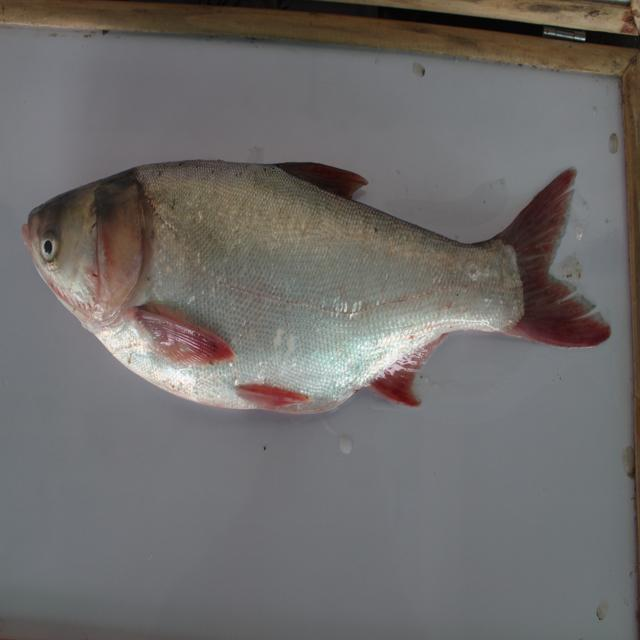SilverCarp: (25, 135, 616, 427)
